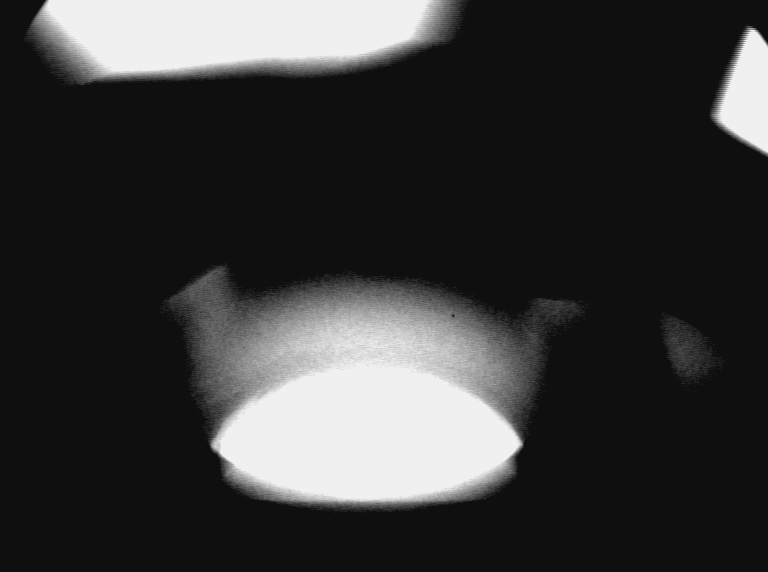defect: (164, 269, 244, 331)
